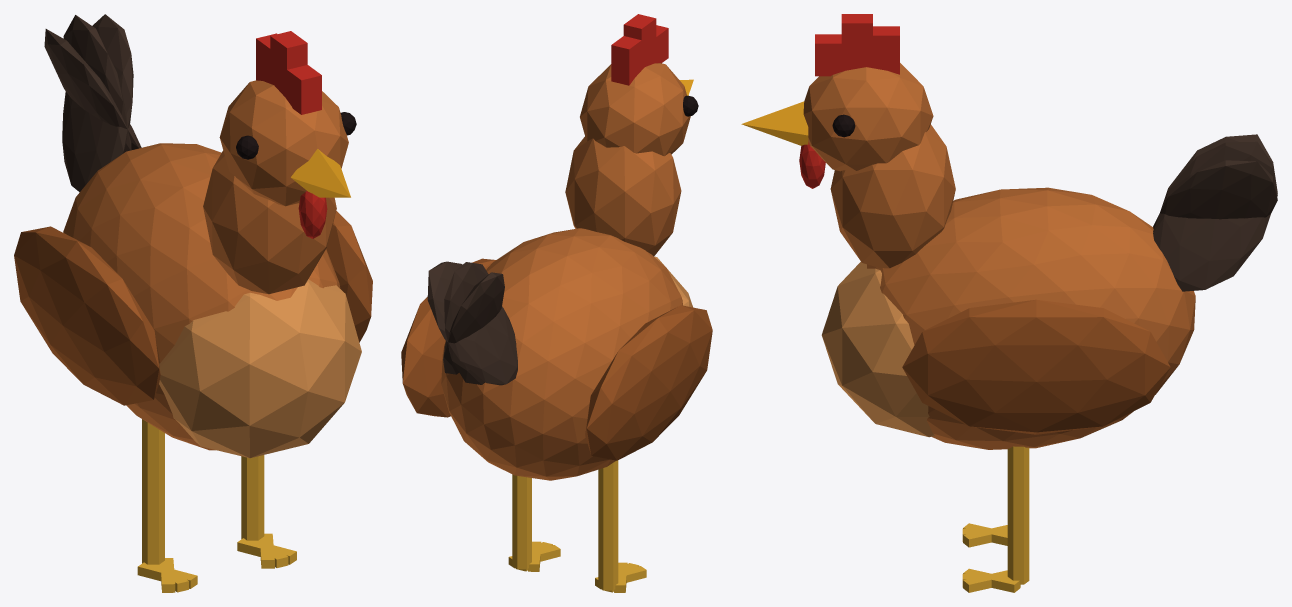
File: chicken.glb
3 views of the same model, side by side, from view 1: azimuth 30°, elevation 25°; view 2: azimuth 150°, elevation 25°; view 3: azimuth 270°, elevation 25° (orthographic). The views are drawn at different scales.
Visible parts, largest first — view 1: breast, body, wing_R_mesh, neck, skull, tail_feather, tail, leg_R_shaft, wing_L_mesh, leg_L_shaft, beak, comb_1 (+5 smaller); view 2: body, wing_R_mesh, neck, skull, tail_feather, tail, wing_L_mesh, leg_R_shaft, leg_L_shaft, comb, comb_1, comb_2; view 3: body, wing_L_mesh, neck, breast, skull, tail, tail_feather, leg_L_shaft, comb_1, beak, comb, comb_2 (+1 smaller).
Part boxes in pixels (bbox=[...]): breast: bbox=[159, 279, 361, 458]; body: bbox=[63, 143, 340, 450]; wing_R_mesh: bbox=[14, 226, 160, 405]; neck: bbox=[203, 150, 336, 294]; skull: bbox=[219, 80, 348, 206]; tail_feather: bbox=[62, 14, 133, 192]; tail: bbox=[44, 15, 141, 153]; leg_R_shaft: bbox=[142, 419, 164, 564]; wing_L_mesh: bbox=[326, 211, 372, 342]; leg_L_shaft: bbox=[241, 455, 264, 540]; beak: bbox=[291, 149, 350, 197]; comb_1: bbox=[270, 31, 307, 99]; body: bbox=[441, 228, 682, 480]; wing_R_mesh: bbox=[585, 305, 712, 460]; neck: bbox=[565, 136, 681, 256]; skull: bbox=[580, 63, 690, 156]; tail_feather: bbox=[427, 261, 517, 385]; tail: bbox=[443, 262, 504, 384]; wing_L_mesh: bbox=[401, 258, 495, 417]; leg_R_shaft: bbox=[598, 460, 618, 590]; leg_L_shaft: bbox=[512, 474, 531, 569]; comb: bbox=[611, 36, 641, 85]; comb_1: bbox=[623, 14, 656, 69]; comb_2: bbox=[656, 25, 668, 63]; body: bbox=[867, 187, 1195, 449]; wing_L_mesh: bbox=[902, 299, 1170, 434]; neck: bbox=[830, 124, 955, 268]; breast: bbox=[821, 262, 934, 437]; skull: bbox=[803, 63, 933, 171]; tail: bbox=[1153, 134, 1277, 291]; tail_feather: bbox=[1153, 160, 1277, 228]; leg_L_shaft: bbox=[1007, 446, 1029, 584]; comb_1: bbox=[841, 14, 872, 71]; beak: bbox=[741, 101, 808, 145]; comb: bbox=[868, 26, 899, 74]; comb_2: bbox=[815, 34, 846, 76].
Bounding box in the file's own units: 0.3166 × 0.67 × 0.5997.
